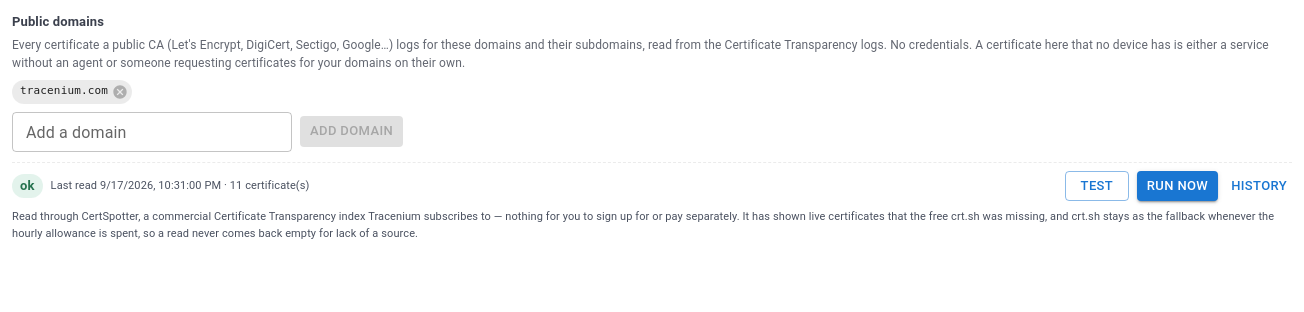
Test: CdpPublicDomains › ⭐ «Run now» vive aquí: el refactor por sectores dejó al conector CT sin ninguna fila, y con ella se fue la lectura manual
The image size is (1304, 312).
Expected: the text "Last read 9/17/2026, 10:31:00 PM · 11 certificate(s)" is shown, [51,178,309,194]
Click the button "Run now" at (1178, 186), box [1137,170,1218,201]
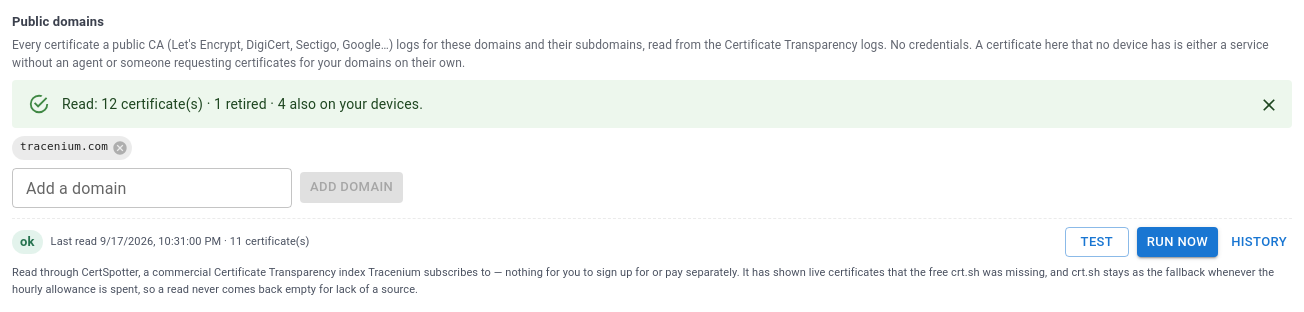
Expected: the text "Read: 12 certificate(s) · 1 retired · 4 also on your devices" is shown, [62,96,423,112]
